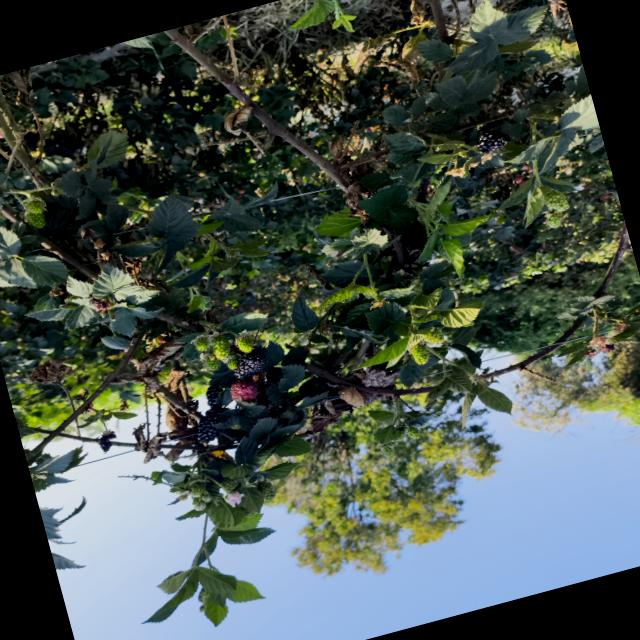maduro: (234, 349, 266, 378), (476, 130, 510, 153), (198, 409, 220, 442), (206, 385, 223, 406)
marron: (230, 377, 258, 401)
